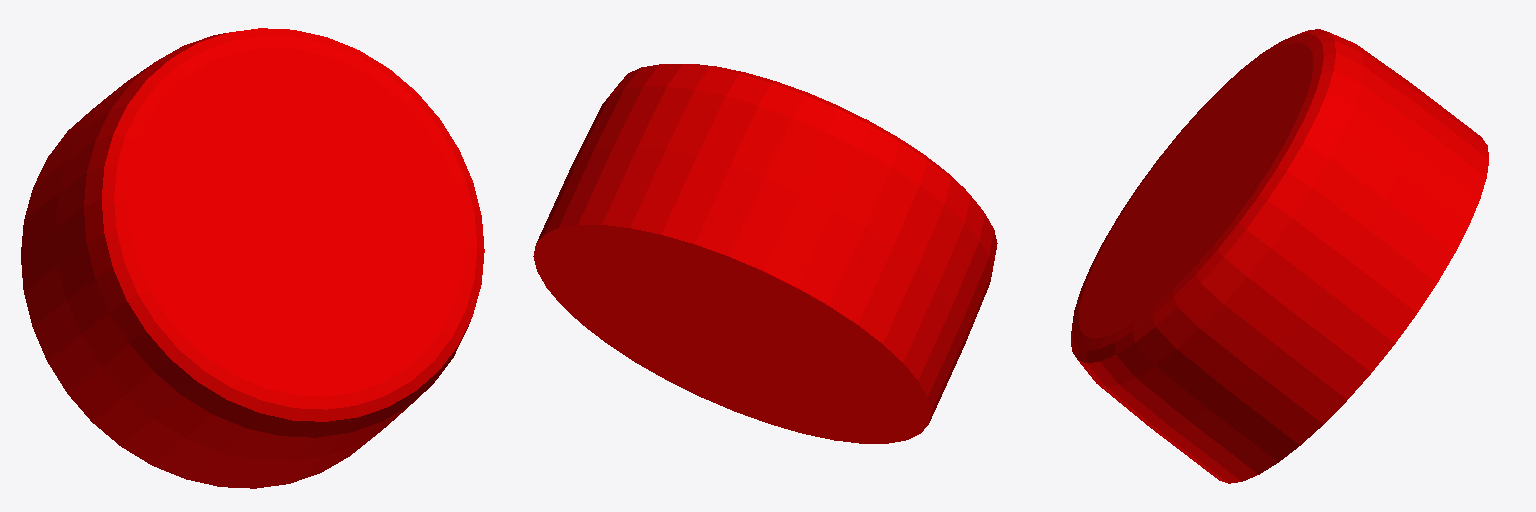
The model's file is Events-Btn-Push.obj.
The picture shows the model from 3 angles: view 1: azimuth 30°, elevation 25°; view 2: azimuth 150°, elevation 25°; view 3: azimuth 270°, elevation 25°; orthographic projection.
Visible parts, largest first — view 1: Events-Btn-Push_Bouton.007; view 2: Events-Btn-Push_Bouton.007; view 3: Events-Btn-Push_Bouton.007.
Boxes of the visible parts, x1,y1,x2,y2 form: Events-Btn-Push_Bouton.007: [21, 28, 484, 488]; Events-Btn-Push_Bouton.007: [533, 64, 997, 443]; Events-Btn-Push_Bouton.007: [1071, 29, 1488, 483].
Size of the model in its own units: 0.1298 by 0.1341 by 0.1255.